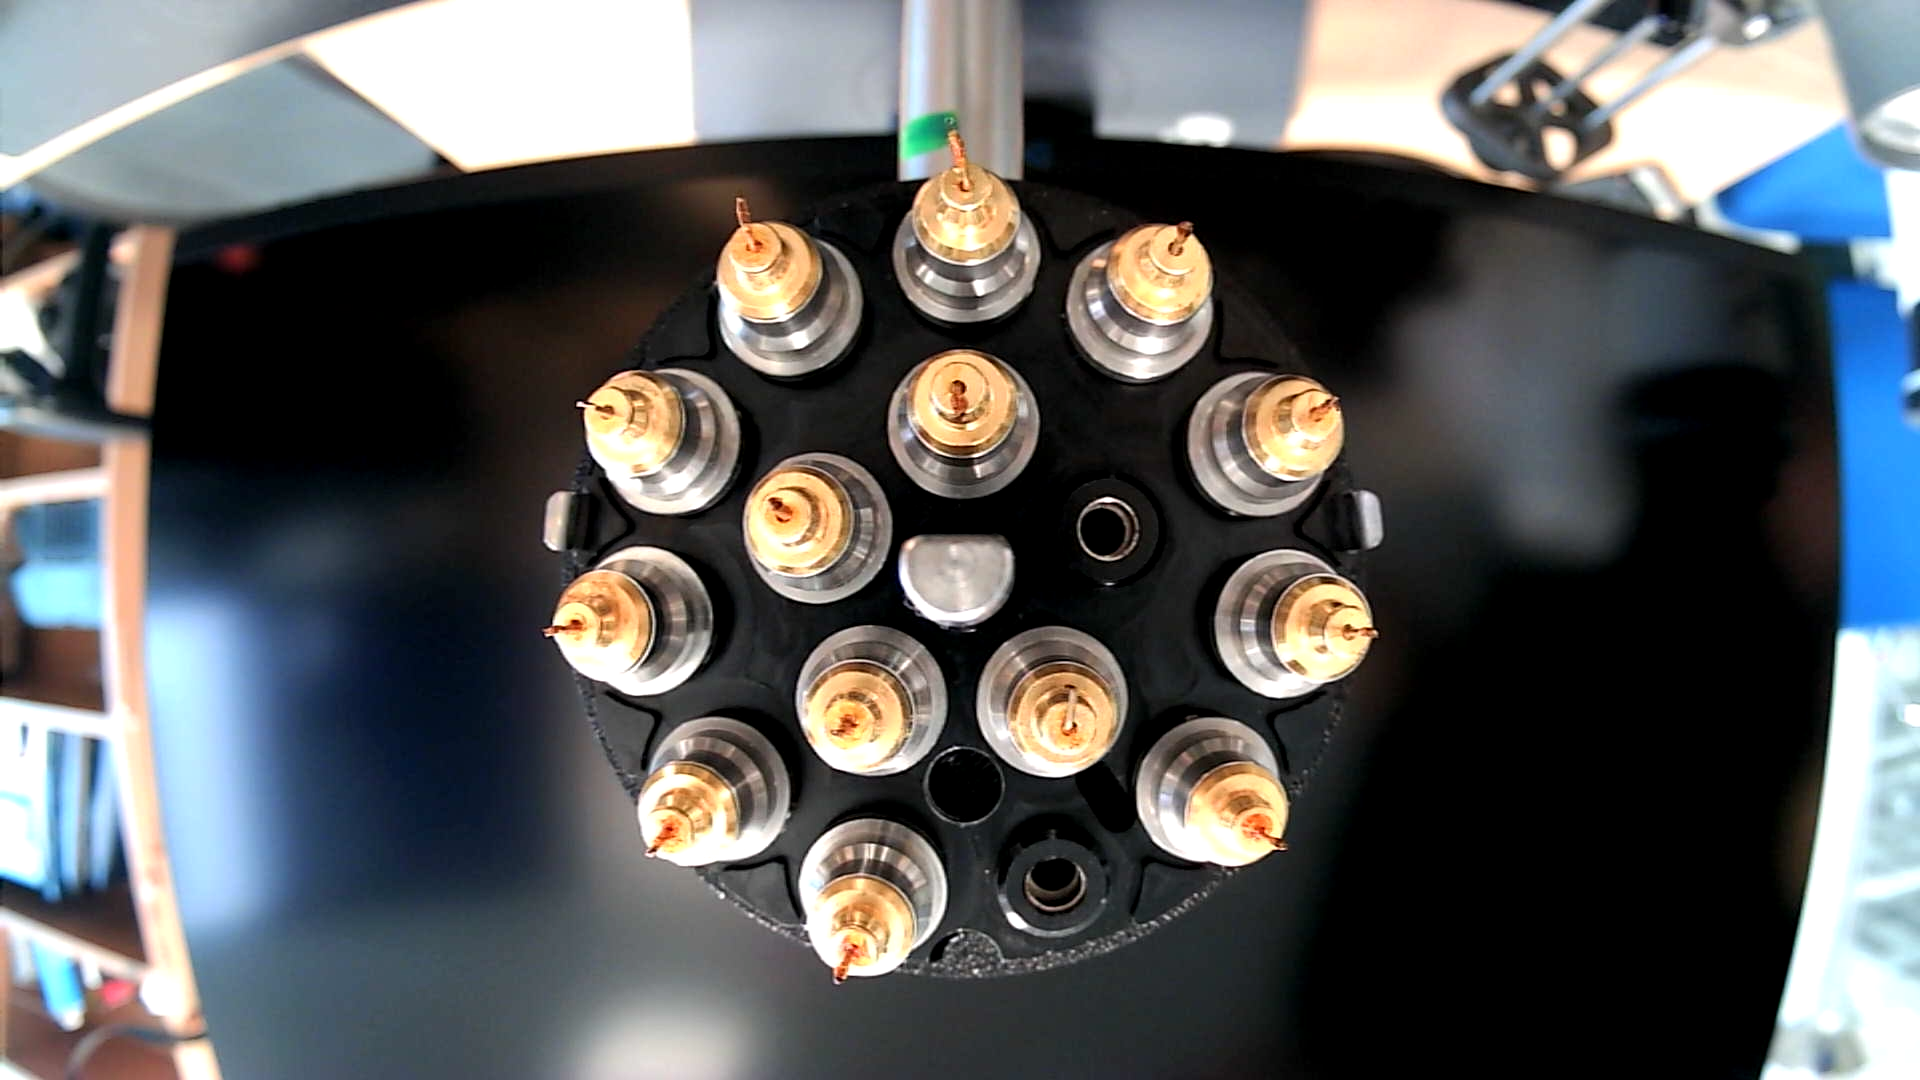bent: (890, 119, 1040, 326), (876, 345, 1036, 505), (975, 617, 1131, 781)
empty: (1036, 462, 1171, 596), (990, 812, 1116, 947)
hole: (923, 738, 1005, 832)
pin: (709, 191, 866, 384), (535, 541, 720, 699), (794, 808, 949, 986), (1203, 545, 1375, 702), (571, 363, 744, 517), (1131, 711, 1292, 872), (1064, 211, 1215, 382), (634, 711, 790, 872), (791, 622, 949, 779), (738, 444, 894, 601), (1185, 363, 1345, 516)
rod: (895, 527, 1021, 632)
